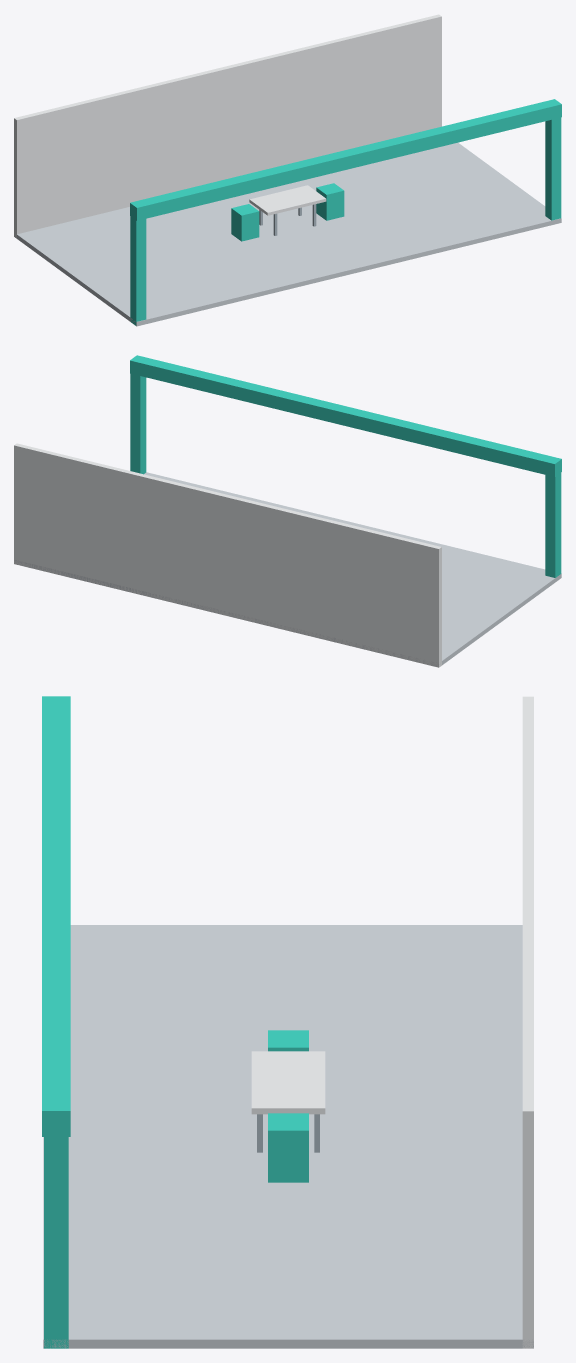
3 views of the same model, one above another, from view 1: azimuth 30°, elevation 25°; view 2: azimuth 150°, elevation 25°; view 3: azimuth 270°, elevation 25° (orthographic). The views are drawn at different scales.
Parts seen in each view (by area): view 1: Exhibition Booth Concept; view 2: Exhibition Booth Concept; view 3: Exhibition Booth Concept.
Part boxes in pixels (x1,y1,x2,y2): Exhibition Booth Concept: (14, 14, 561, 326); Exhibition Booth Concept: (14, 355, 561, 667); Exhibition Booth Concept: (42, 696, 533, 1348).
Size of the model in its own units: 12 by 3.2 by 6.02.
